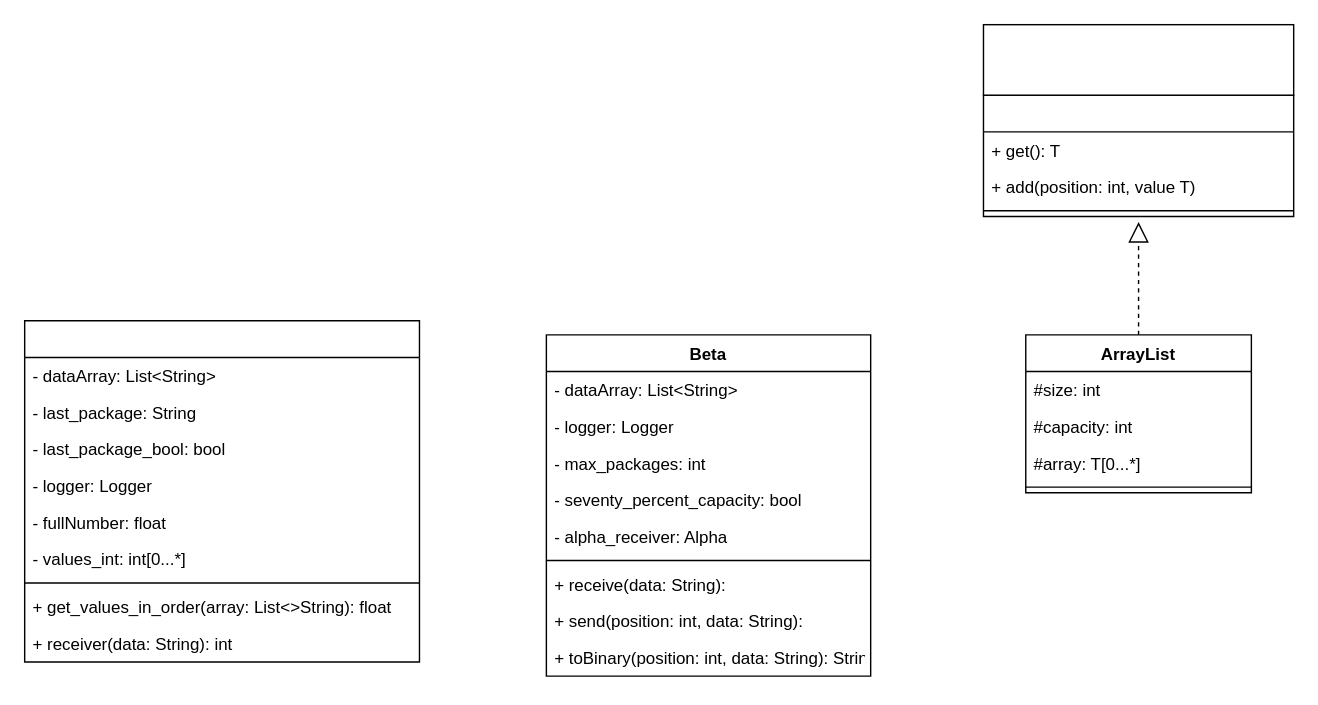
This 1318x705 diagram has some shape labels left out. Here are the shapes that lost their labels. From the top down, the box of each, then its label:
(982, 23, 1294, 95): «interface» List<T>
(23, 319, 419, 662): Alpha
